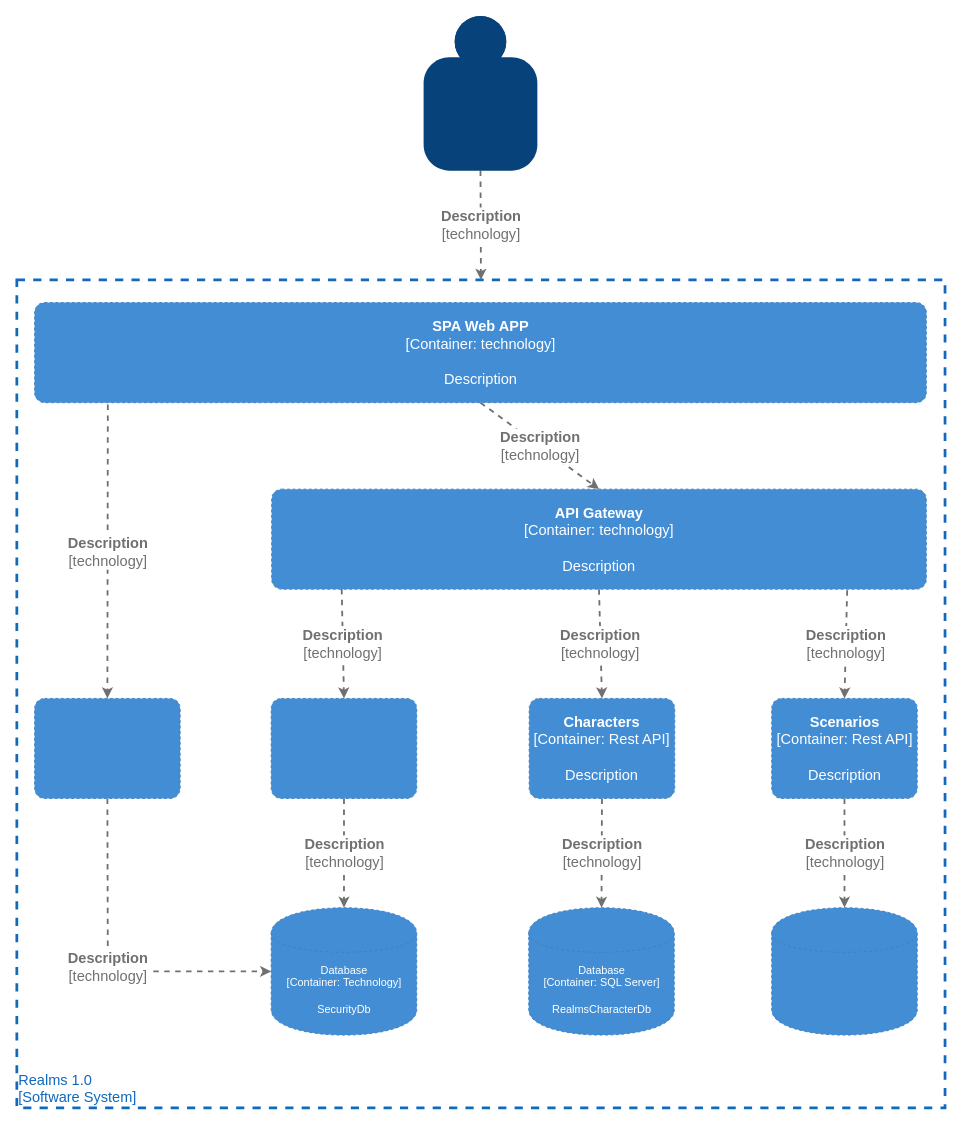
Image size: 962x1125. Some labels were removed from this diagram. Here are the shapes that lost their labels. From the top down, the box of each, then its label:
(423, 15, 537, 170): User [Person] Player or System User
(34, 698, 180, 799): Security [Container: Rest API] Description
(270, 698, 417, 799): Player [Container: Rest API] Description
(771, 907, 917, 1035): Database [Container: SQL Server] ScenariosDb
